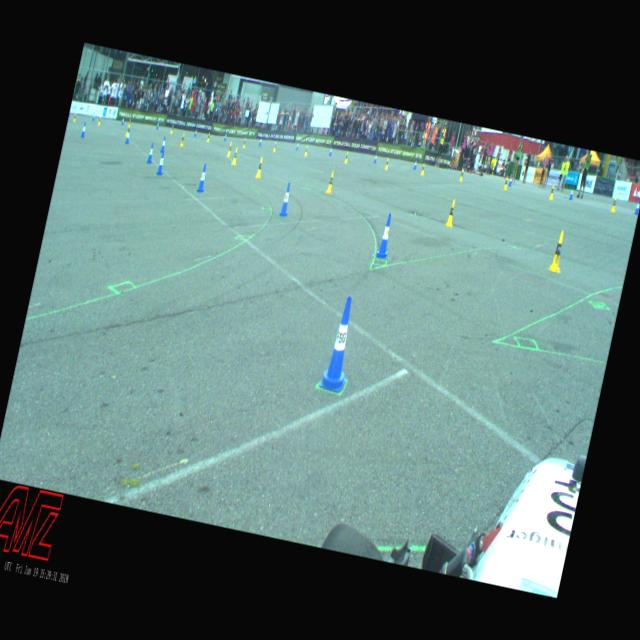blue_cone: (320, 293, 362, 392), (374, 212, 396, 260), (278, 181, 294, 217), (196, 162, 209, 192), (155, 151, 166, 175), (146, 142, 156, 163), (80, 121, 87, 138), (160, 135, 167, 152), (124, 128, 131, 144), (634, 199, 640, 214), (568, 186, 574, 200), (508, 174, 514, 186), (372, 152, 378, 163), (413, 158, 417, 169), (328, 145, 332, 156), (258, 136, 262, 146), (296, 140, 300, 150), (156, 119, 160, 129), (194, 127, 198, 136), (223, 132, 227, 141), (120, 116, 124, 125), (92, 112, 95, 121)
yellow_cone: (546, 230, 568, 272), (444, 198, 457, 228), (326, 169, 336, 194), (256, 156, 264, 178), (231, 147, 239, 166), (610, 195, 618, 212), (226, 142, 233, 158), (548, 184, 555, 200), (502, 175, 508, 190), (180, 132, 186, 146), (420, 162, 426, 175), (343, 150, 349, 163), (458, 168, 464, 180), (384, 157, 389, 170), (125, 123, 130, 136), (304, 145, 308, 156), (272, 141, 276, 152), (206, 131, 210, 142), (242, 138, 246, 148), (170, 124, 174, 134), (97, 115, 101, 125), (72, 112, 76, 122)
